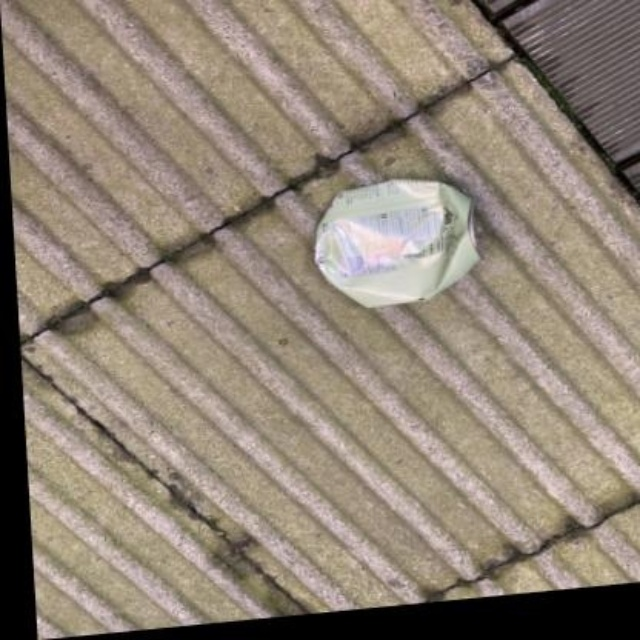trash: (315, 180, 477, 306)
